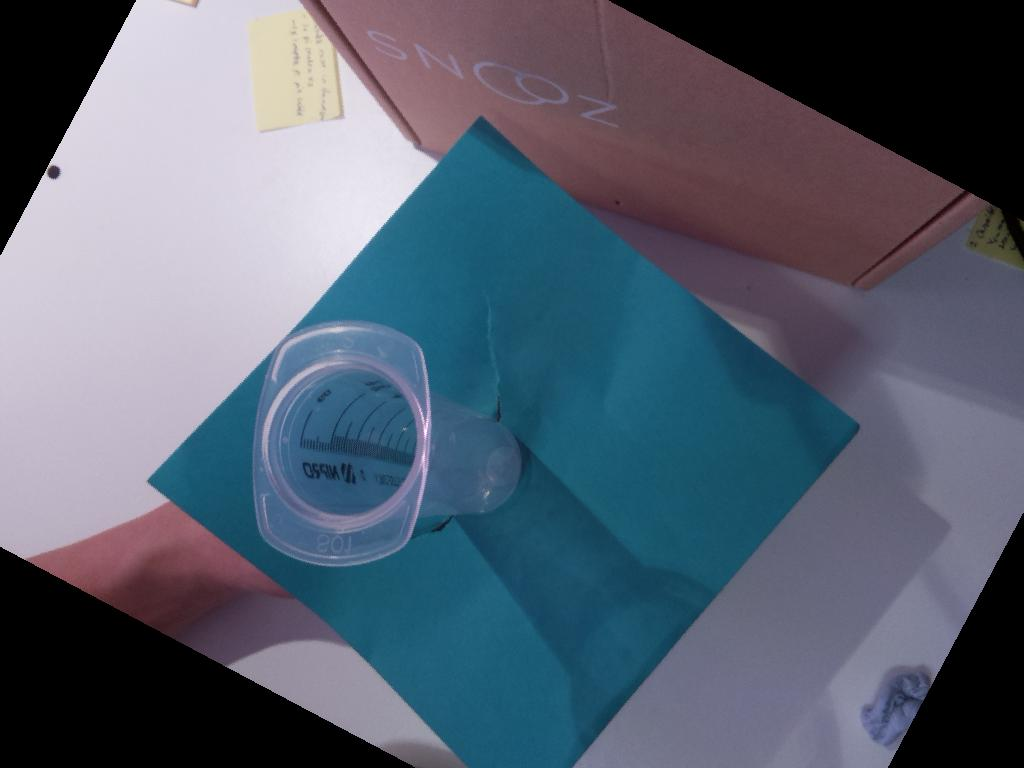clean: (253, 319, 432, 568)
